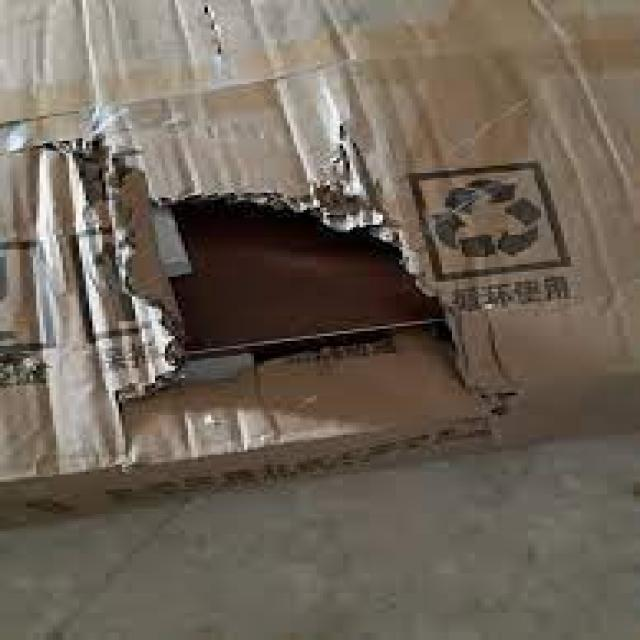hole: (118, 171, 488, 425)
